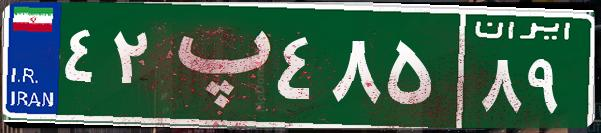2: (110, 28, 158, 105)
4: (273, 28, 330, 110), (57, 26, 110, 107)
5: (385, 28, 445, 110)
8: (330, 28, 385, 110), (475, 38, 525, 113)
9: (525, 38, 570, 115)
پ: (158, 15, 273, 115)
